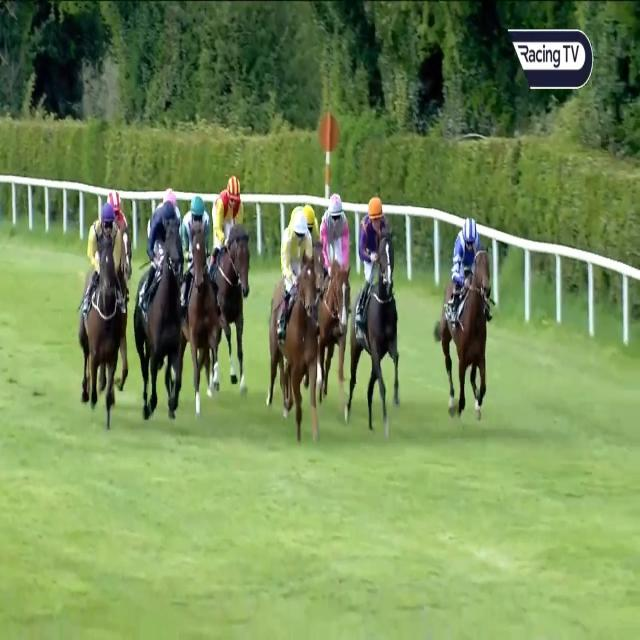horses-racing: (442, 210, 499, 422), (348, 196, 399, 424), (78, 196, 126, 428), (271, 201, 318, 422), (210, 175, 253, 403), (138, 200, 180, 422), (182, 189, 220, 415), (316, 185, 348, 436), (103, 182, 138, 284), (302, 196, 319, 244)
